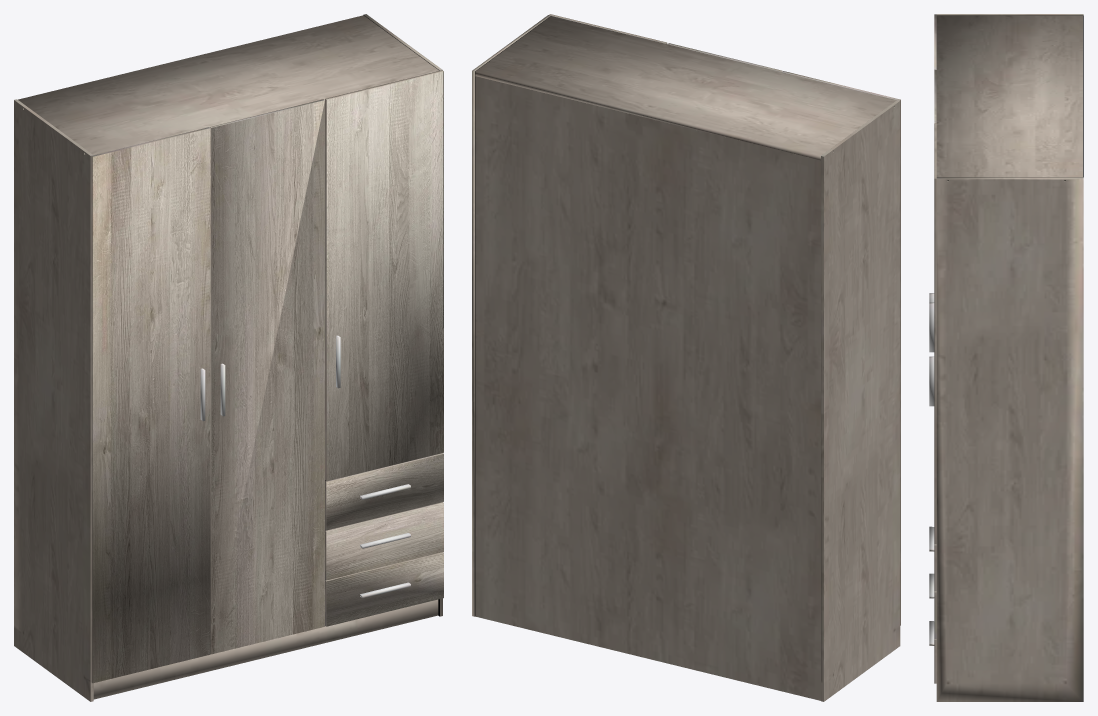
Rendered from abo-B07GFW9GFX.glb.
The picture shows the model from 3 angles, left to right: view 1: azimuth 30°, elevation 25°; view 2: azimuth 150°, elevation 25°; view 3: azimuth 270°, elevation 25°; orthographic projection. The views are drawn at different scales.
Parts seen in each view (by area): view 1: B07GFW9GFX; view 2: B07GFW9GFX; view 3: B07GFW9GFX.
Boxes of the visible parts, left/top/right/bottom form: B07GFW9GFX: left=14, top=14, right=443, bottom=701; B07GFW9GFX: left=472, top=14, right=900, bottom=701; B07GFW9GFX: left=929, top=14, right=1083, bottom=701.
Size of the model in its own units: 1.29 by 1.91 by 0.5097.
1 material, 1 textured.
